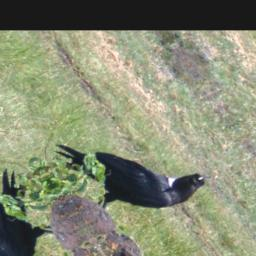Crow: (46, 98, 215, 237)
